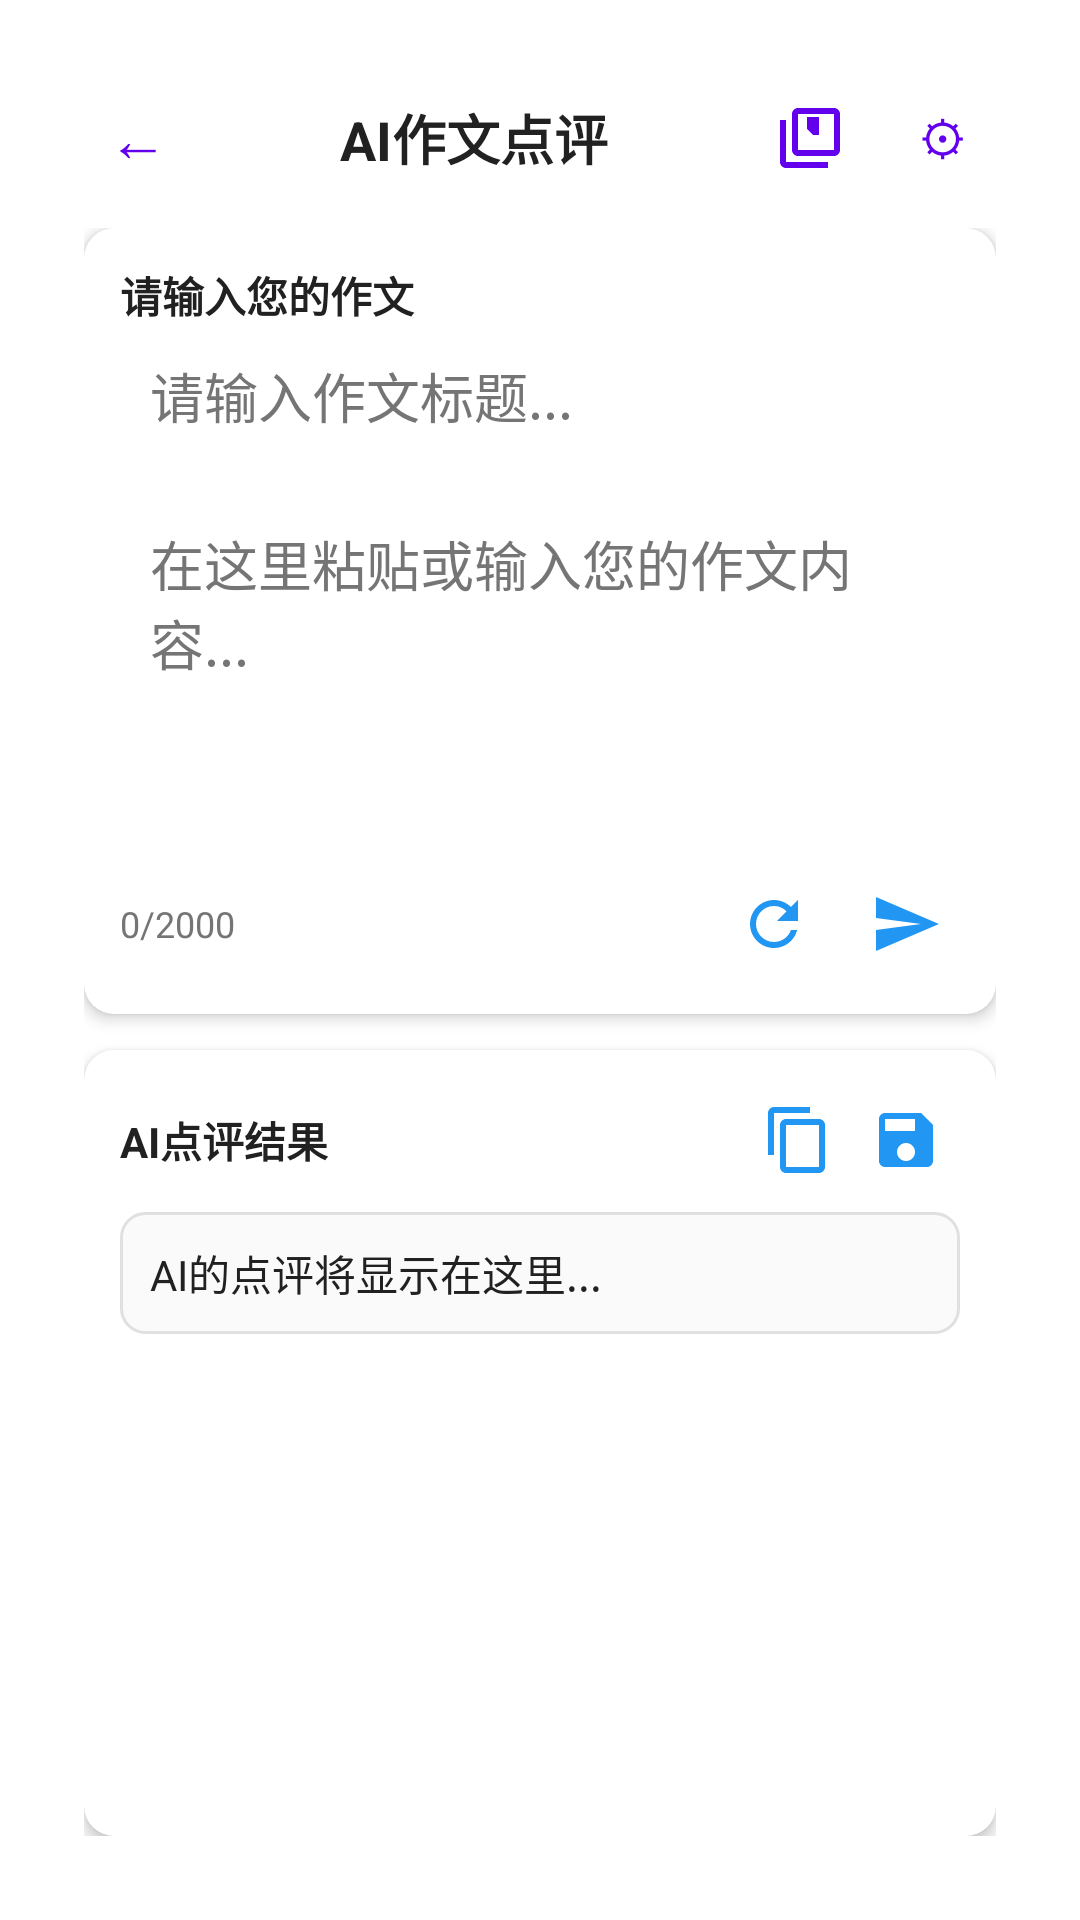

Named icons in this screenshot (1080px×1920px) and their centers, point (x, y):
保存结果: point (906, 1140)
刷新: point (774, 924)
复制: point (796, 1140)
提交作文: point (907, 924)
查看保存的文章: point (810, 138)
